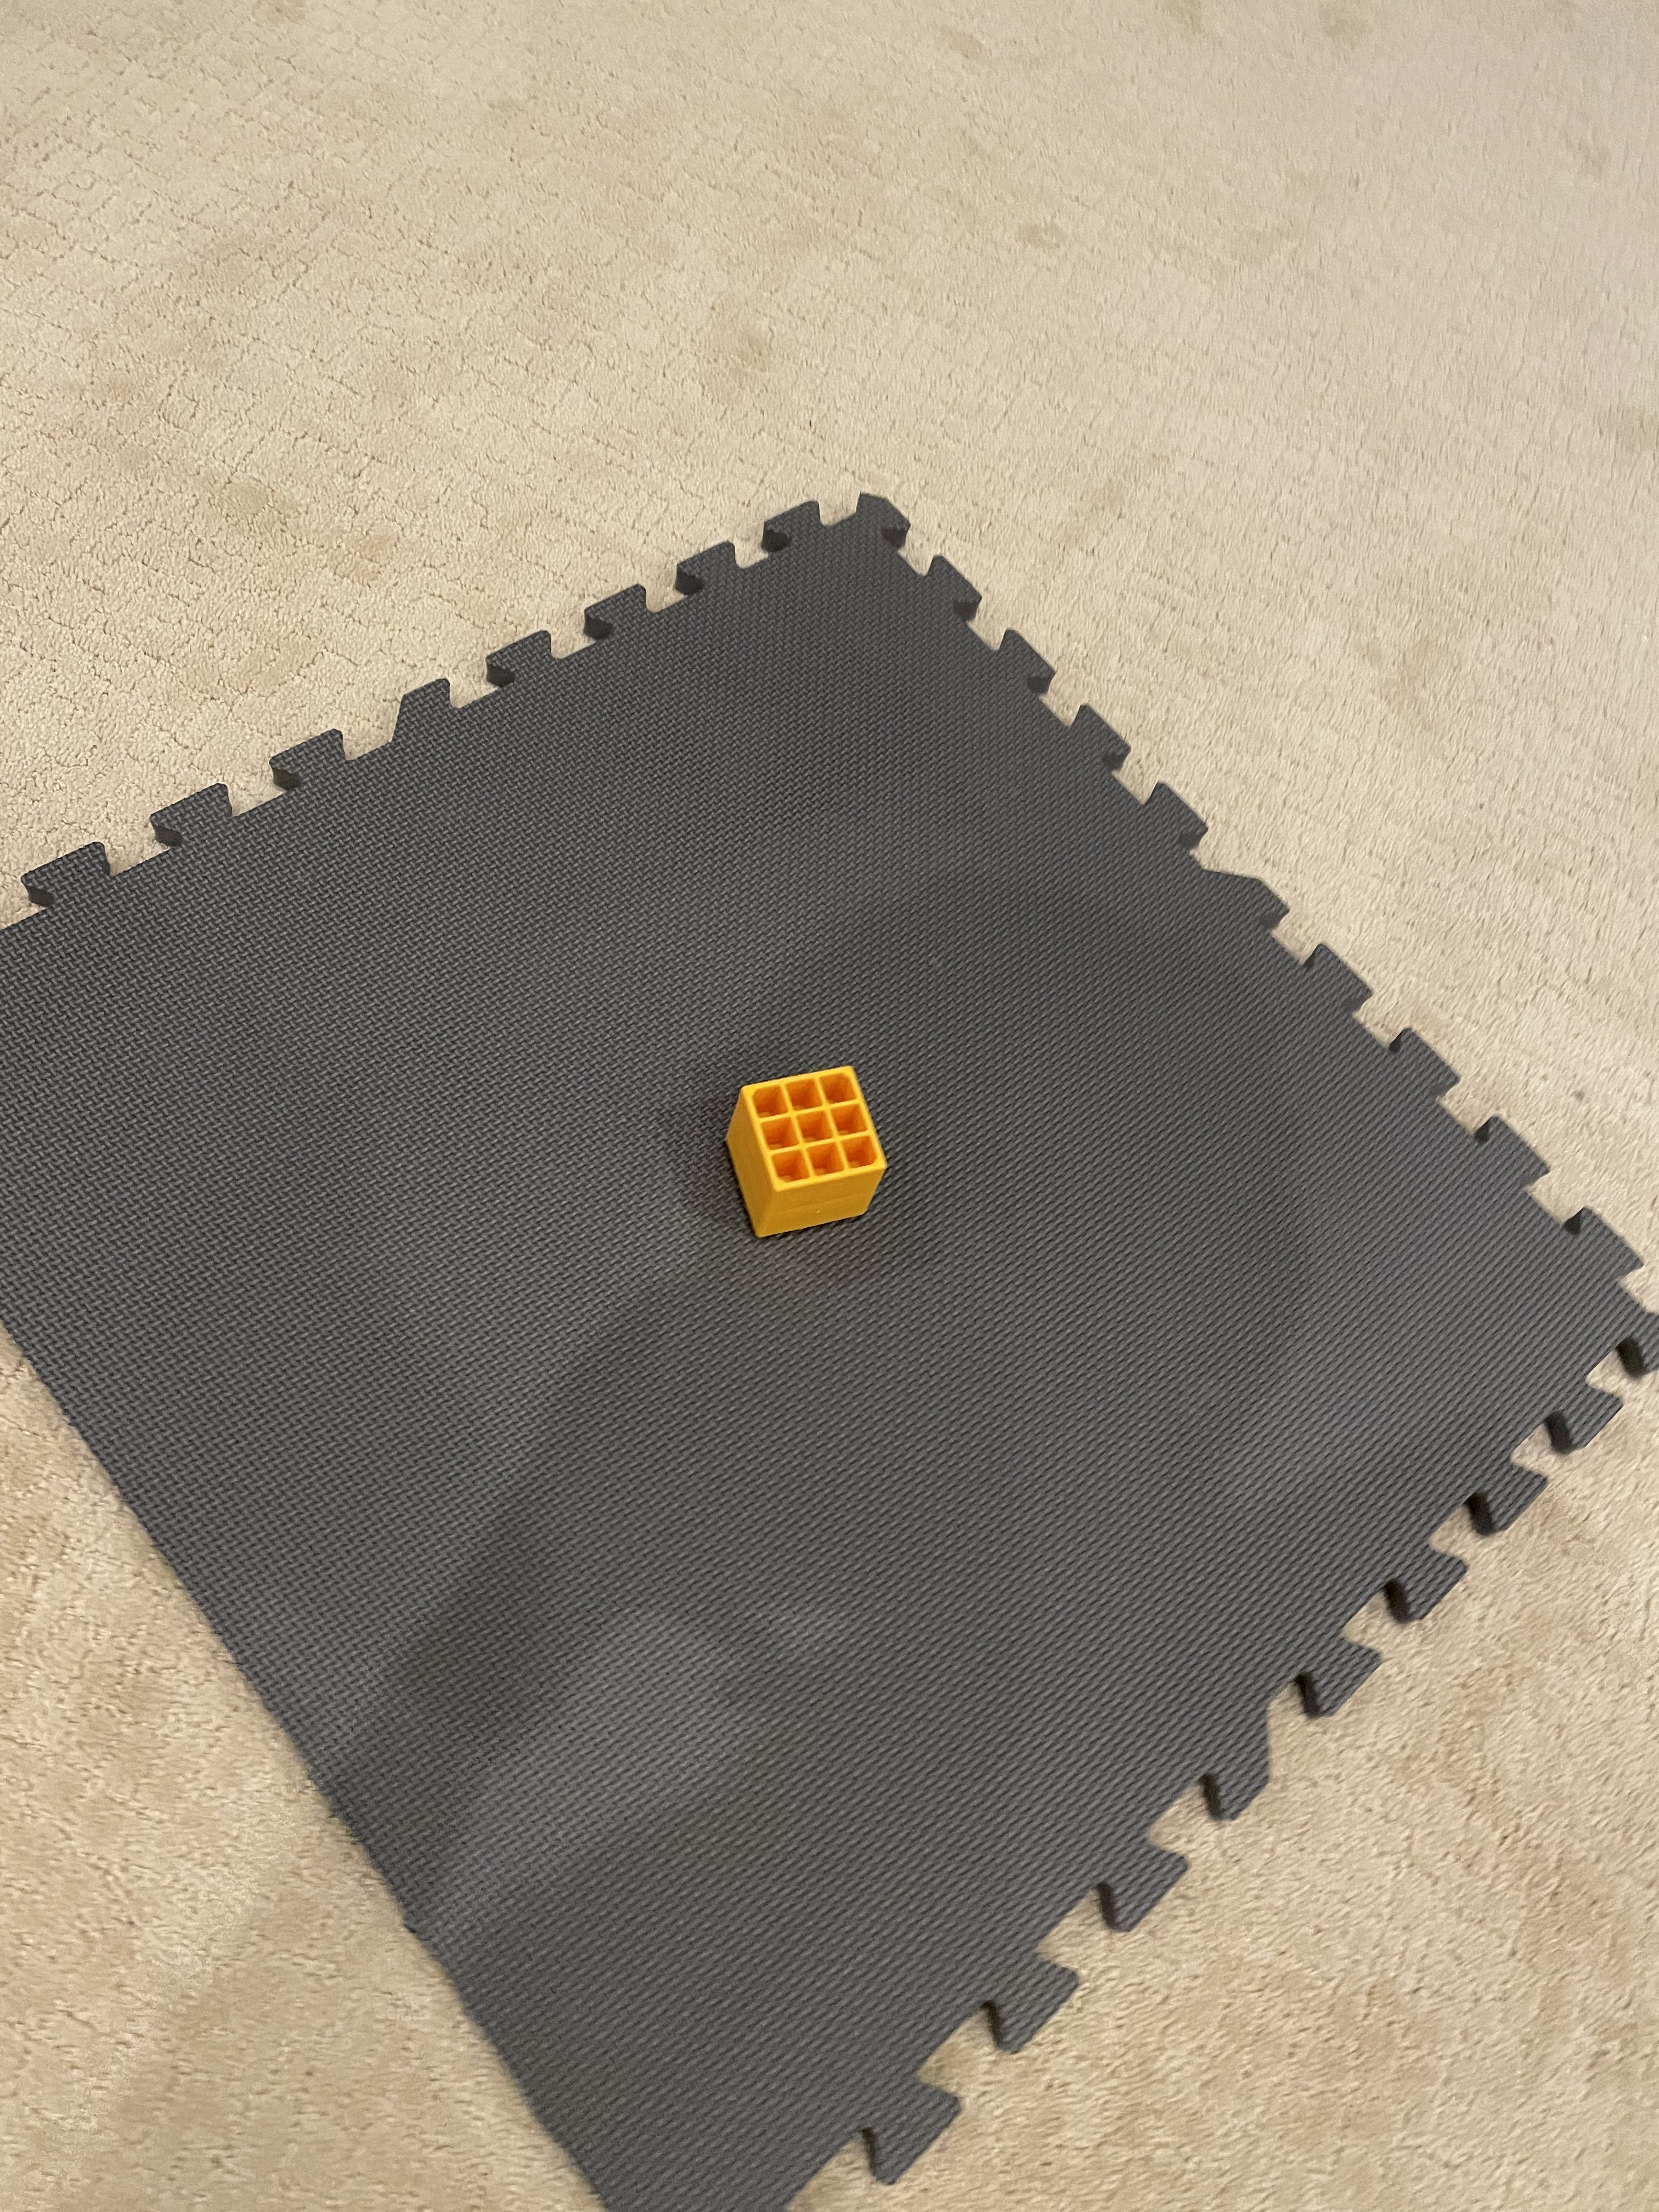cube: (681, 1035, 943, 1263)
